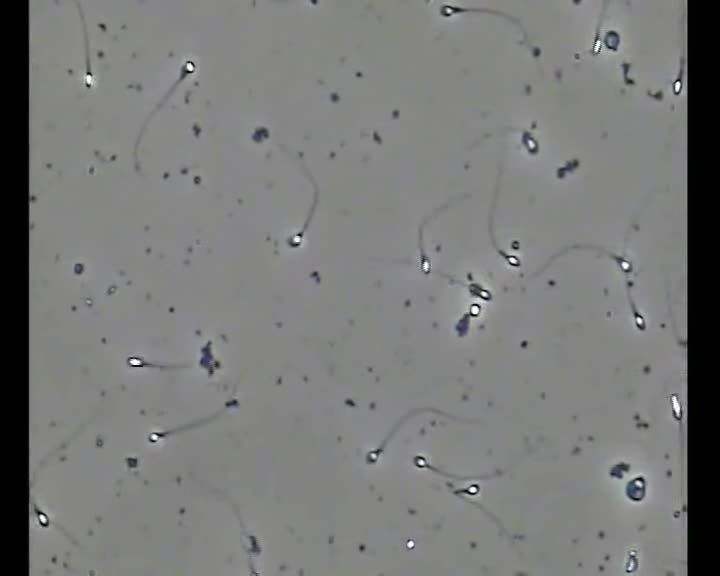spermhead: (625, 476, 646, 501), (468, 283, 491, 301), (672, 61, 684, 95), (522, 130, 538, 154), (33, 506, 49, 527), (624, 550, 638, 574), (455, 313, 469, 337), (604, 29, 619, 51), (440, 4, 463, 17), (671, 393, 682, 420), (182, 58, 196, 76), (617, 257, 632, 273), (502, 253, 519, 267), (148, 430, 165, 444), (591, 31, 601, 54), (127, 355, 146, 367), (288, 232, 303, 247), (365, 449, 380, 463), (634, 311, 645, 330), (420, 254, 430, 274), (413, 455, 427, 469), (83, 72, 96, 87), (463, 483, 479, 495), (469, 302, 481, 317), (407, 538, 415, 549)
